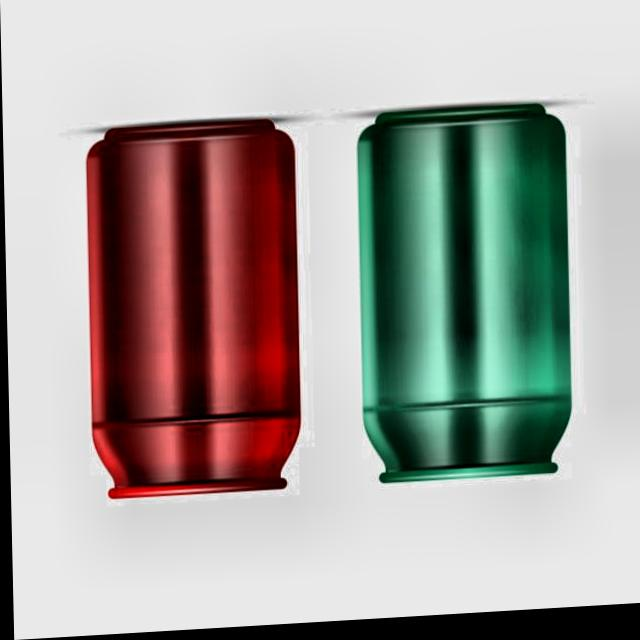can: (73, 116, 311, 513), (352, 102, 584, 497)
